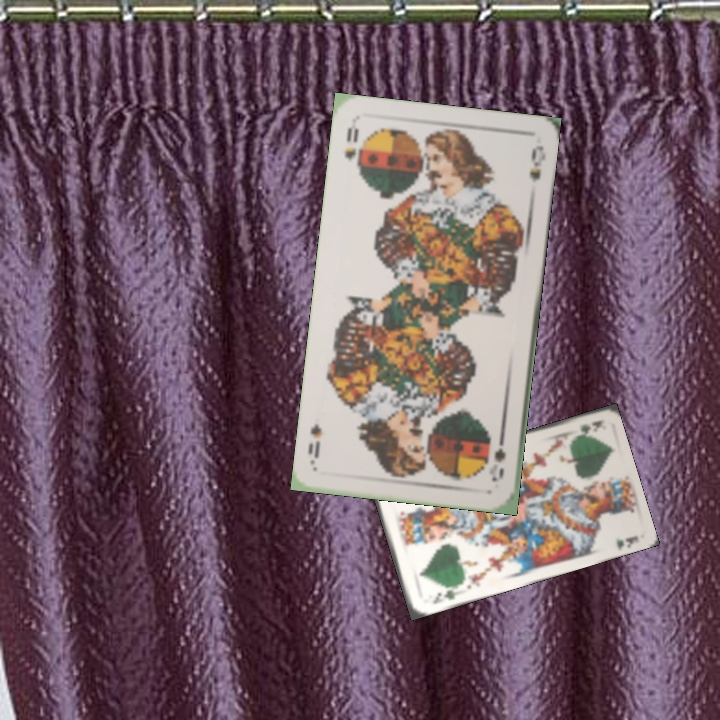GK: (569, 416, 605, 440), (428, 583, 461, 607)
SO: (340, 119, 363, 171), (487, 428, 508, 484)
